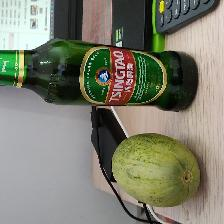gua: (104, 132, 203, 204)
